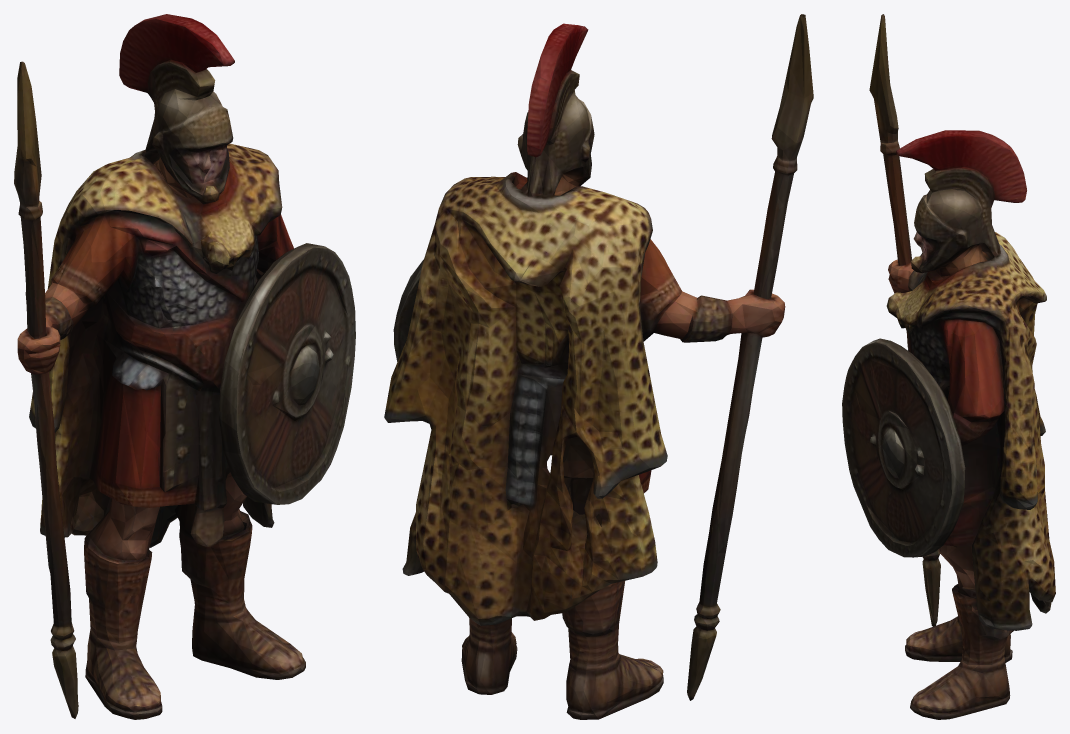
File: raidSpearman.glb
The picture shows the model from 3 angles, left to right: view 1: azimuth 30°, elevation 25°; view 2: azimuth 150°, elevation 25°; view 3: azimuth 270°, elevation 25°; orthographic projection. The views are drawn at different scales.
Parts seen in each view (by area): view 1: world; view 2: world; view 3: world.
Part boxes in pixels (x1,y1,x2,y2): world: [14, 14, 355, 719]; world: [384, 14, 813, 719]; world: [842, 14, 1055, 719].
Size of the model in its own units: 0.5679 by 0.9999 by 0.3334.
1 material, 1 textured.
